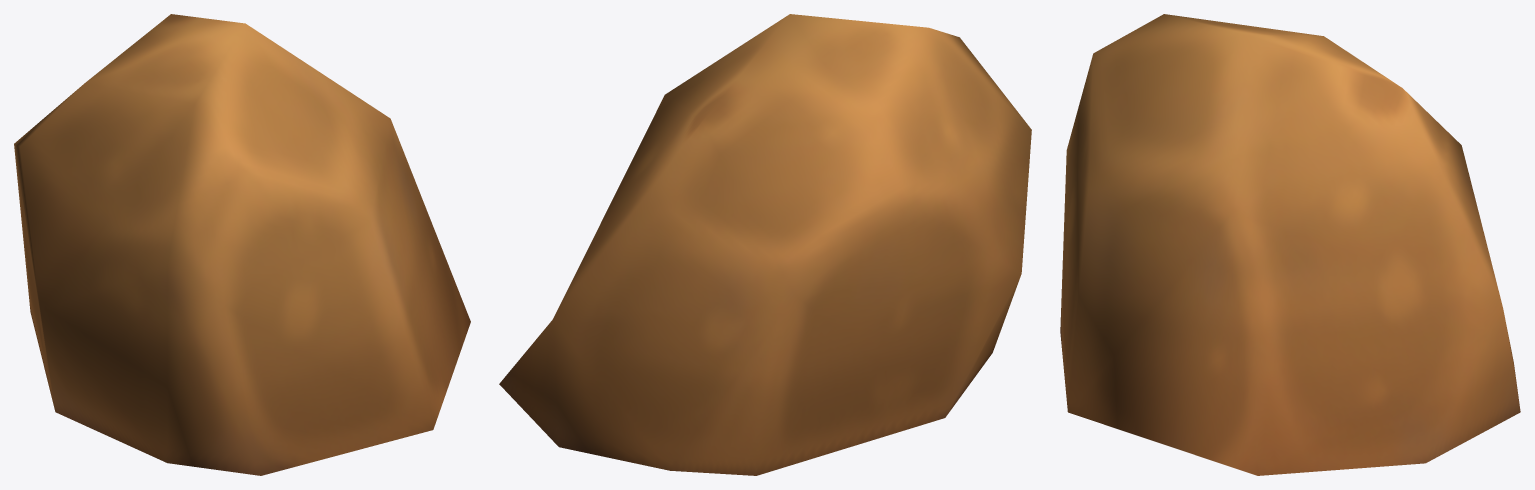
The model's file is Rock_Medium_01.fbx.
The picture shows the model from 3 angles, left to right: view 1: azimuth 30°, elevation 25°; view 2: azimuth 150°, elevation 25°; view 3: azimuth 270°, elevation 25°; orthographic projection. The views are drawn at different scales.
Visible parts, largest first — view 1: Rock_Medium_01; view 2: Rock_Medium_01; view 3: Rock_Medium_01.
Part boxes in pixels (left/top/right/bottom): Rock_Medium_01: left=14, top=14, right=470, bottom=475; Rock_Medium_01: left=499, top=14, right=1031, bottom=475; Rock_Medium_01: left=1060, top=14, right=1520, bottom=475.
Bounding box in the file's own units: 16.56 × 12.56 × 15.64.
